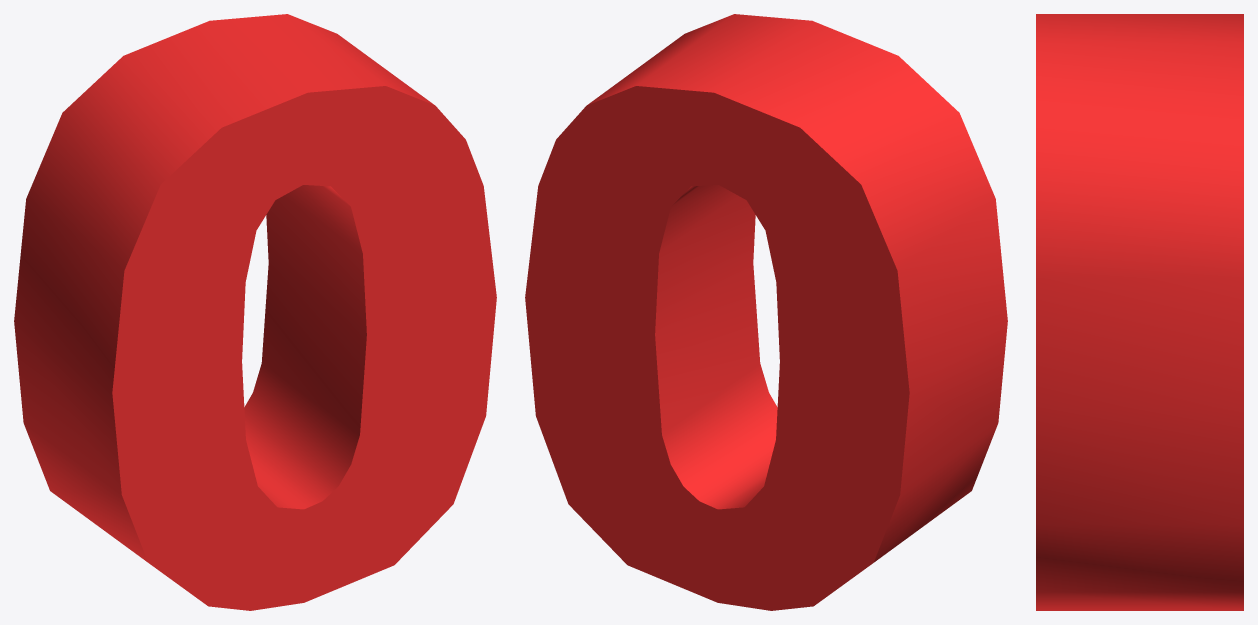
The model's file is zero.glb.
3 views of the same model, side by side, from view 1: azimuth 30°, elevation 25°; view 2: azimuth 150°, elevation 25°; view 3: azimuth 270°, elevation 25° (orthographic). The views are drawn at different scales.
Visible parts, largest first — view 1: Object_4; view 2: Object_4; view 3: Object_4.
Part boxes in pixels (box(x1,y1,x2,y2)): Object_4: box(14, 14, 496, 610); Object_4: box(525, 14, 1007, 610); Object_4: box(1036, 14, 1243, 610).
Size of the model in its own units: 9.04 by 11.44 by 4.
